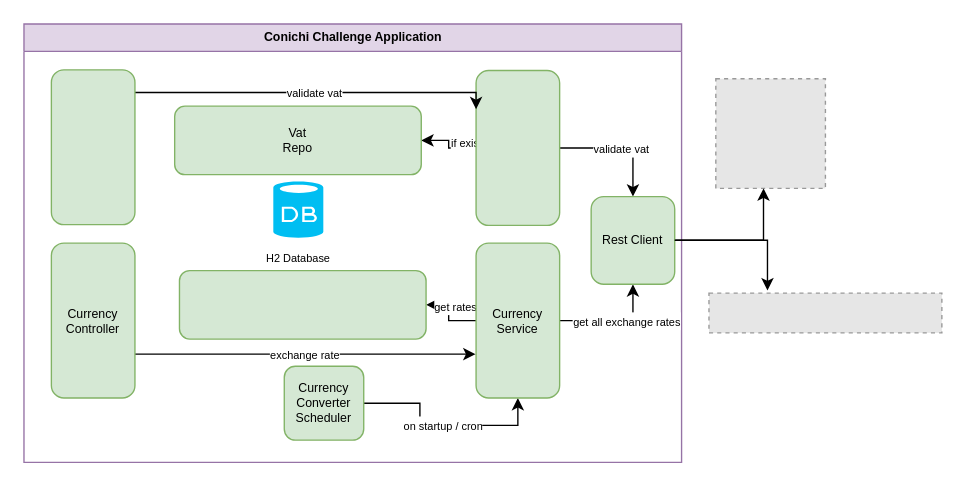
Some shapes in this 966 by 486 pixel diagram are drawn without their labels. Grey dashed boxes stand in for pictures. Here are the shapes that lost their labels. From the top down, the centre of each, then its label:
the point at 92,146: Vat Controller
the point at 517,147: Vat Service
the point at 302,304: Currency Repo
